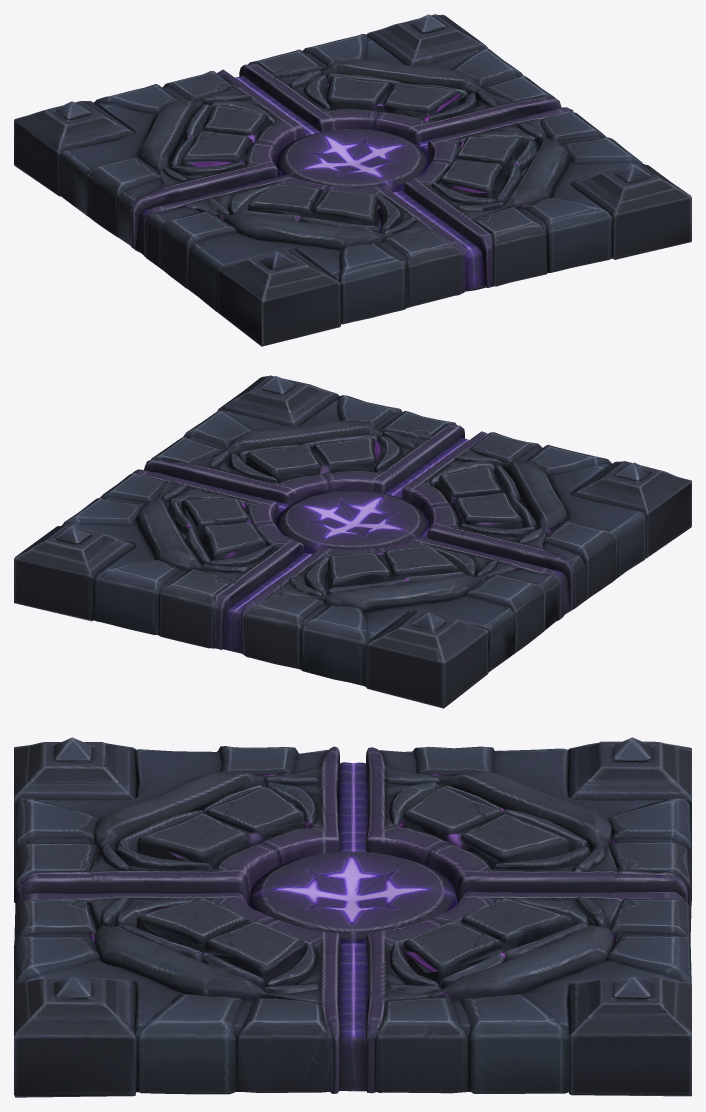
File: snare_voidstone_nexus.glb
3 views of the same model, one above another, from view 1: azimuth 30°, elevation 25°; view 2: azimuth 150°, elevation 25°; view 3: azimuth 270°, elevation 25° (orthographic). The views are drawn at different scales.
Parts seen in each view (by area): view 1: mesh_node; view 2: mesh_node; view 3: mesh_node.
Part boxes in pixels (x1,y1,x2,y2): mesh_node: [14, 14, 691, 346]; mesh_node: [14, 375, 691, 708]; mesh_node: [14, 737, 691, 1097].
Size of the model in its own units: 1 by 0.1592 by 1.
1 material, 1 textured.
